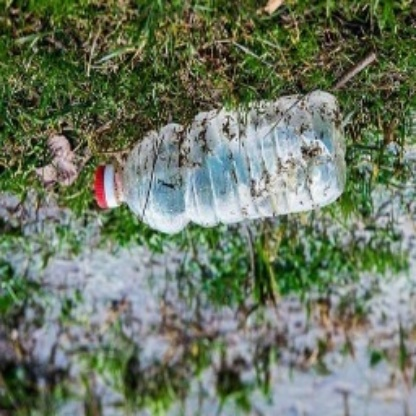bottle: (89, 93, 350, 234)
